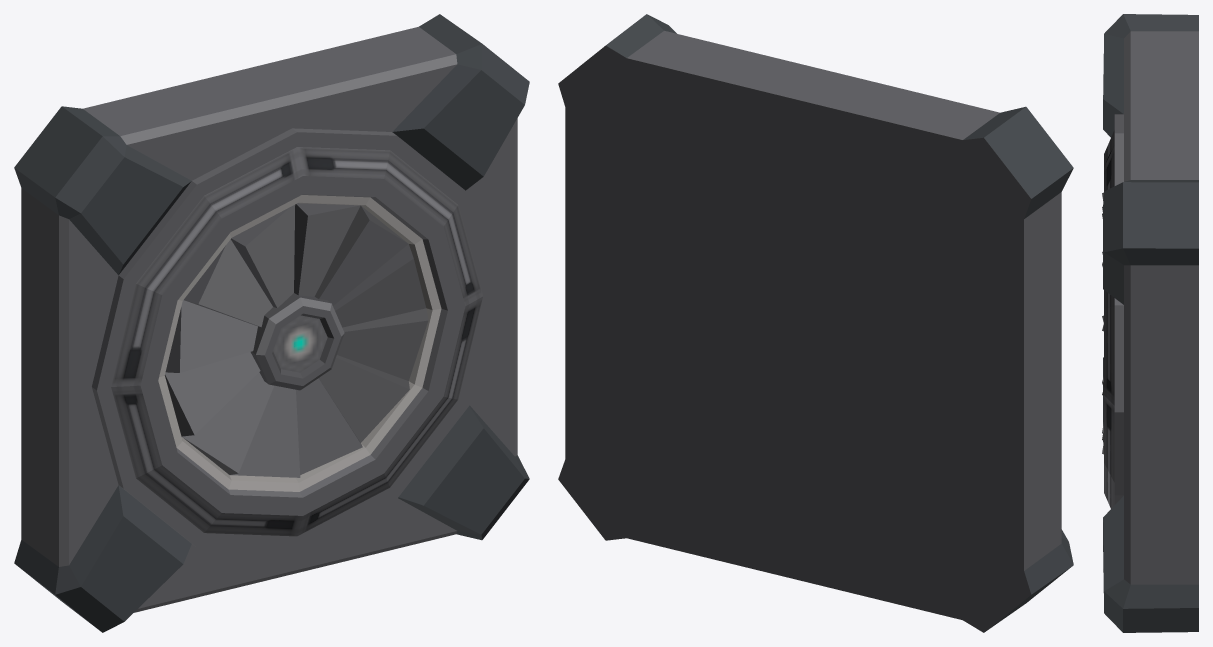
File: SM_Prop_Greebles_05.fbx
3 renders of one model, left to right at view 1: azimuth 30°, elevation 25°; view 2: azimuth 150°, elevation 25°; view 3: azimuth 270°, elevation 25°, orthographic. The views are drawn at different scales.
Parts seen in each view (by area): view 1: SM_Prop_Greebles_05; view 2: SM_Prop_Greebles_05; view 3: SM_Prop_Greebles_05.
Part boxes in pixels (x1,y1,x2,y2): SM_Prop_Greebles_05: (14,14,529,632); SM_Prop_Greebles_05: (558,14,1073,632); SM_Prop_Greebles_05: (1102,14,1198,632).
Size of the model in its own units: 97.23 by 97.23 by 18.95.
